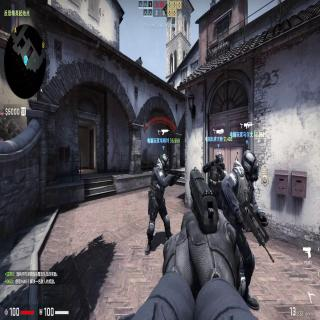CT-Head: (242, 149, 259, 181), (161, 154, 170, 170), (216, 151, 224, 168)
